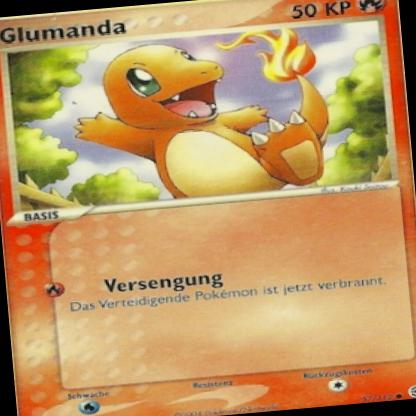Charmander: (64, 23, 352, 208)
